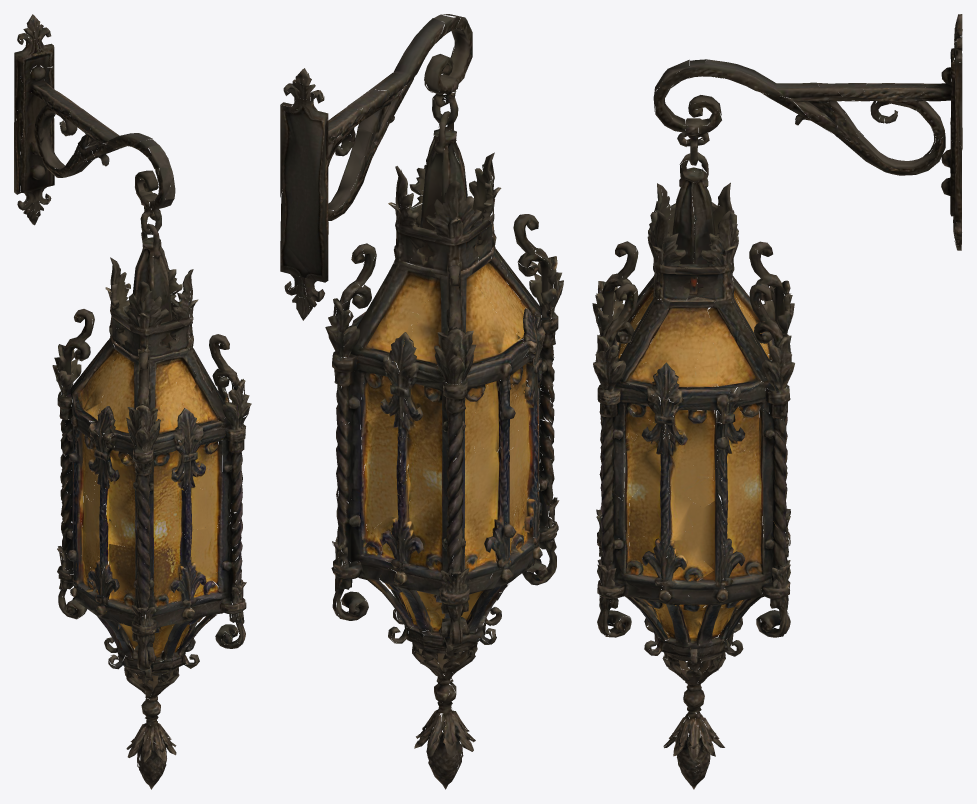
The model's file is h_yellin_lantern.glb.
The picture shows the model from 3 angles, left to right: view 1: azimuth 30°, elevation 25°; view 2: azimuth 150°, elevation 25°; view 3: azimuth 270°, elevation 25°; orthographic projection. The views are drawn at different scales.
Parts seen in each view (by area): view 1: tripo_node_0e6810a3-5d26-463b-90e5-add963c34306; view 2: tripo_node_0e6810a3-5d26-463b-90e5-add963c34306; view 3: tripo_node_0e6810a3-5d26-463b-90e5-add963c34306.
Boxes of the visible parts, x1,y1,x2,y2 form: tripo_node_0e6810a3-5d26-463b-90e5-add963c34306: [14, 14, 251, 789]; tripo_node_0e6810a3-5d26-463b-90e5-add963c34306: [280, 14, 563, 789]; tripo_node_0e6810a3-5d26-463b-90e5-add963c34306: [592, 14, 962, 789].
Size of the model in its own units: 0.2108 by 0.9796 by 0.4234.
Materials: 1 (1 with a texture image).
